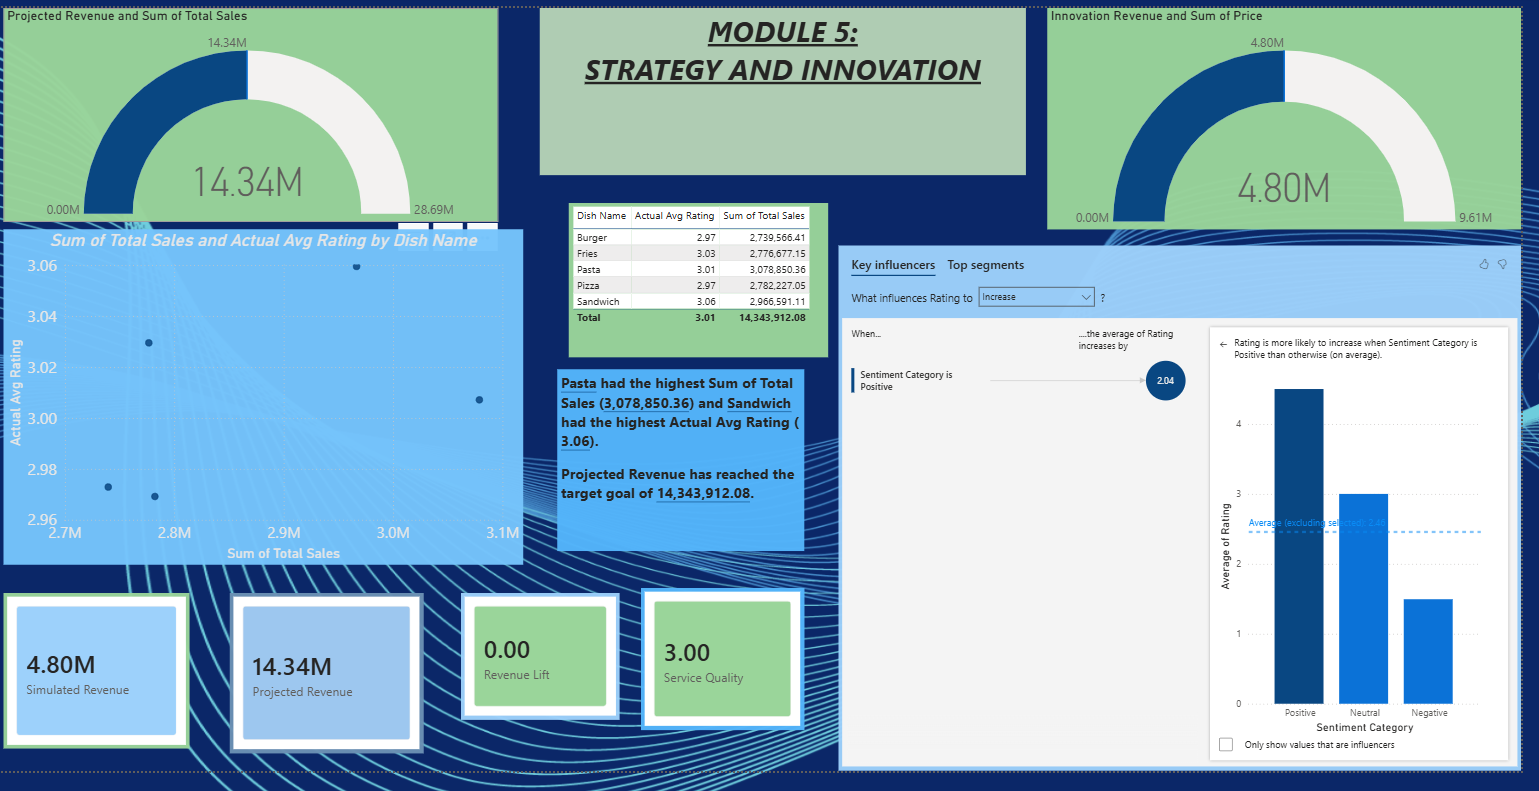

The page's visual inventory and layout, read from the dashboard file:
{"tool":"powerbi","page":{"name":"Strategy and Innovation","canvas":[2000,1000],"ordinal":4},"visuals":[{"type":"gauge","fields":{"TargetValue":["Sum(Foodpanda Analysis Dataset.Total Sales)"],"Y":["Foodpanda Analysis Dataset.Projected Revenue"]},"box":[10.4,0,647.9,279.9],"z":0},{"type":"scatterChart","fields":{"Category":["Foodpanda Analysis Dataset.Dish Name"],"X":["Sum(Foodpanda Analysis Dataset.Total Sales)"],"Y":["Foodpanda Analysis Dataset.Actual Avg Rating"]},"box":[9.4,290.3,681.6,440.1],"z":1},{"type":"textbox","box":[735.7,474.3,324,238.6],"z":2},{"type":"cardVisual","fields":{"Data":["Foodpanda Analysis Dataset.Projected Revenue"]},"box":[306,768,254,210],"z":5},{"type":"keyDriversVisual","fields":{"ExplainBy":["Foodpanda Analysis Dataset.Delivery Status","Foodpanda Analysis Dataset.City","Sum(Foodpanda Analysis Dataset.Price)","Foodpanda Analysis Dataset.Sentiment Category"],"Target":["Foodpanda Analysis Dataset.Rating"]},"box":[1104.3,311.4,895.7,688.6],"z":6},{"type":"tableEx","fields":{"Values":["Foodpanda Analysis Dataset.Dish Name","Foodpanda Analysis Dataset.Actual Avg Rating","Sum(Foodpanda Analysis Dataset.Total Sales)"]},"box":[750.9,256.6,340.8,202.2],"z":7},{"type":"gauge","fields":{"TargetValue":["Sum(Foodpanda Analysis Dataset.Price)"],"Y":["Foodpanda Analysis Dataset.Innovation Revenue"]},"box":[1378.7,0,622,290.3],"z":8},{"type":"cardVisual","fields":{"Data":["Foodpanda Analysis Dataset.Simulated Revenue"]},"box":[10,768,244,204],"z":9},{"type":"textbox","box":[713.5,0,637.5,219.4],"z":10},{"type":"cardVisual","fields":{"Data":["Foodpanda Analysis Dataset.Revenue Lift"]},"box":[610,768,208,166],"z":11},{"type":"cardVisual","fields":{"Data":["Foodpanda Analysis Dataset.Service Quality"]},"box":[846,760,214,186],"z":12}]}

Visuals, with their boxes in screenshot pixels (x1, y1, x2, y2), scaled from the page's 2000x1000 canvas onto the 1539x791 screenshot:
gauge - Sum(Foodpanda Analysis Dataset.Total Sales) x Foodpanda Analysis Dataset.Projected Revenue: box=[8, 0, 507, 221]
scatterChart - Foodpanda Analysis Dataset.Dish Name x Sum(Foodpanda Analysis Dataset.Total Sales): box=[7, 230, 532, 578]
textbox: box=[566, 375, 815, 564]
cardVisual - Foodpanda Analysis Dataset.Projected Revenue: box=[235, 607, 431, 774]
keyDriversVisual - Foodpanda Analysis Dataset.Delivery Status x Foodpanda Analysis Dataset.City: box=[850, 246, 1538, 790]
tableEx - Foodpanda Analysis Dataset.Dish Name x Foodpanda Analysis Dataset.Actual Avg Rating: box=[578, 203, 840, 363]
gauge - Sum(Foodpanda Analysis Dataset.Price) x Foodpanda Analysis Dataset.Innovation Revenue: box=[1061, 0, 1538, 230]
cardVisual - Foodpanda Analysis Dataset.Simulated Revenue: box=[8, 607, 195, 769]
textbox: box=[549, 0, 1040, 174]
cardVisual - Foodpanda Analysis Dataset.Revenue Lift: box=[469, 607, 629, 739]
cardVisual - Foodpanda Analysis Dataset.Service Quality: box=[651, 601, 816, 748]
